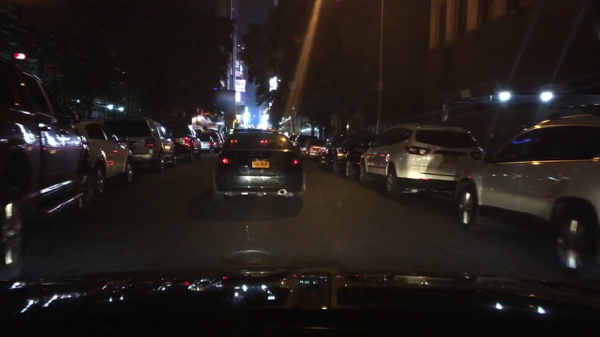car: (452, 104, 599, 278), (357, 121, 486, 203), (210, 128, 305, 209), (70, 120, 135, 198), (103, 116, 176, 172), (331, 132, 375, 181), (169, 123, 203, 163), (316, 131, 345, 173), (298, 138, 325, 162), (293, 135, 317, 154), (198, 132, 216, 154), (210, 132, 222, 154), (218, 132, 226, 143), (289, 135, 296, 143)
truck: (0, 57, 99, 280)
